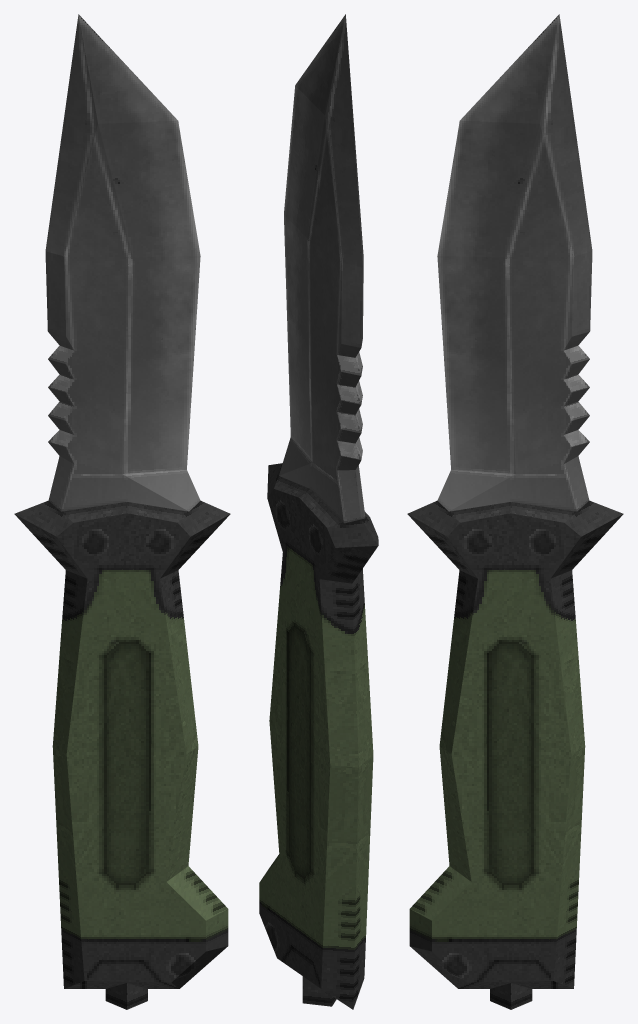
Rendered from Military knife.glb.
3 renders of one model, left to right at view 1: azimuth 90°, elevation 25°; view 2: azimuth 210°, elevation 25°; view 3: azimuth 270°, elevation 25°, orthographic.
Parts seen in each view (by area): view 1: military knife; view 2: military knife; view 3: military knife.
Boxes of the visible parts, bbox=[...] form: military knife: bbox=[14, 14, 230, 1009]; military knife: bbox=[259, 14, 378, 1009]; military knife: bbox=[407, 14, 623, 1009].
Size of the model in its own units: 0.045 by 0.9992 by 0.1988.
1 material, 1 textured.
